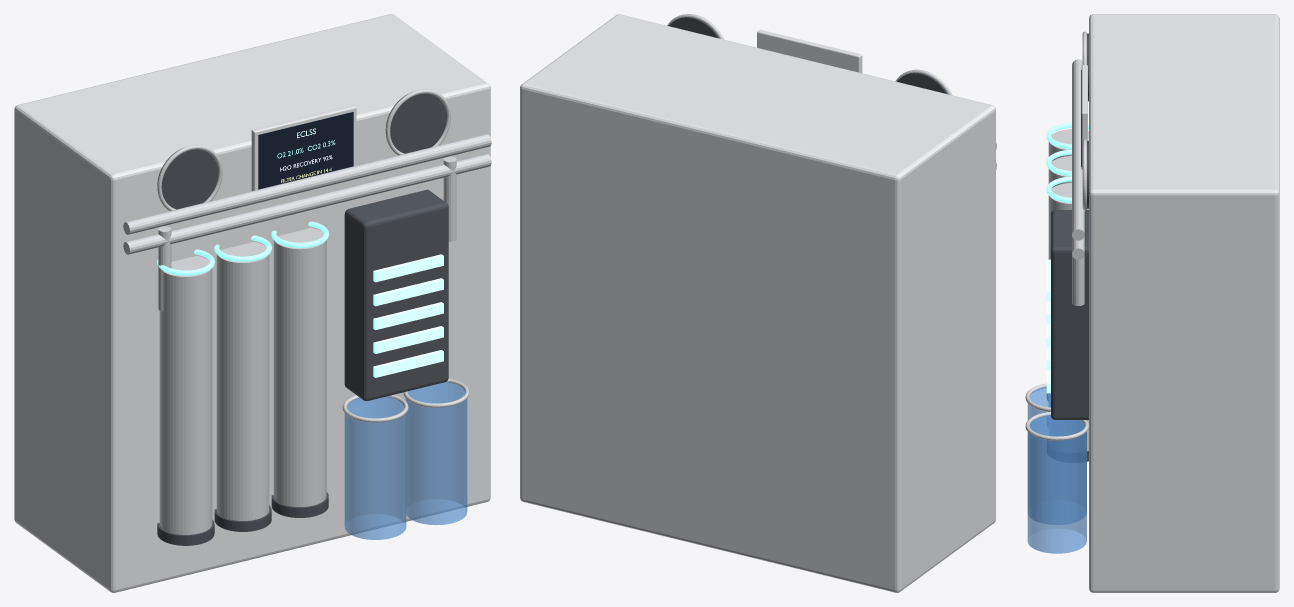
File: eclss_core.glb
3 renders of one model, left to right at view 1: azimuth 30°, elevation 25°; view 2: azimuth 150°, elevation 25°; view 3: azimuth 270°, elevation 25°, orthographic. The views are drawn at different scales.
Visible parts, largest first — view 1: CO2_Scrubber, Water_Tank, Cube.002 (×5), ECLSS_Display_Text.001; view 2: CO2_Scrubber; view 3: CO2_Scrubber, Water_Tank, ECLSS_Display_Text.001.
Part boxes in pixels (<box>): CO2_Scrubber: <box>14,14,491,592</box>; Water_Tank: <box>344,381,467,539</box>; Cube.002 (×5): <box>373,254,443,377</box>; ECLSS_Display_Text.001: <box>157,140,335,275</box>; CO2_Scrubber: <box>520,14,996,592</box>; CO2_Scrubber: <box>1025,14,1279,592</box>; Water_Tank: <box>1027,387,1086,553</box>; ECLSS_Display_Text.001: <box>1046,122,1088,202</box>.
Size of the model in its own units: 2 by 2.17 by 1.2.
5 materials, 5 textured.
